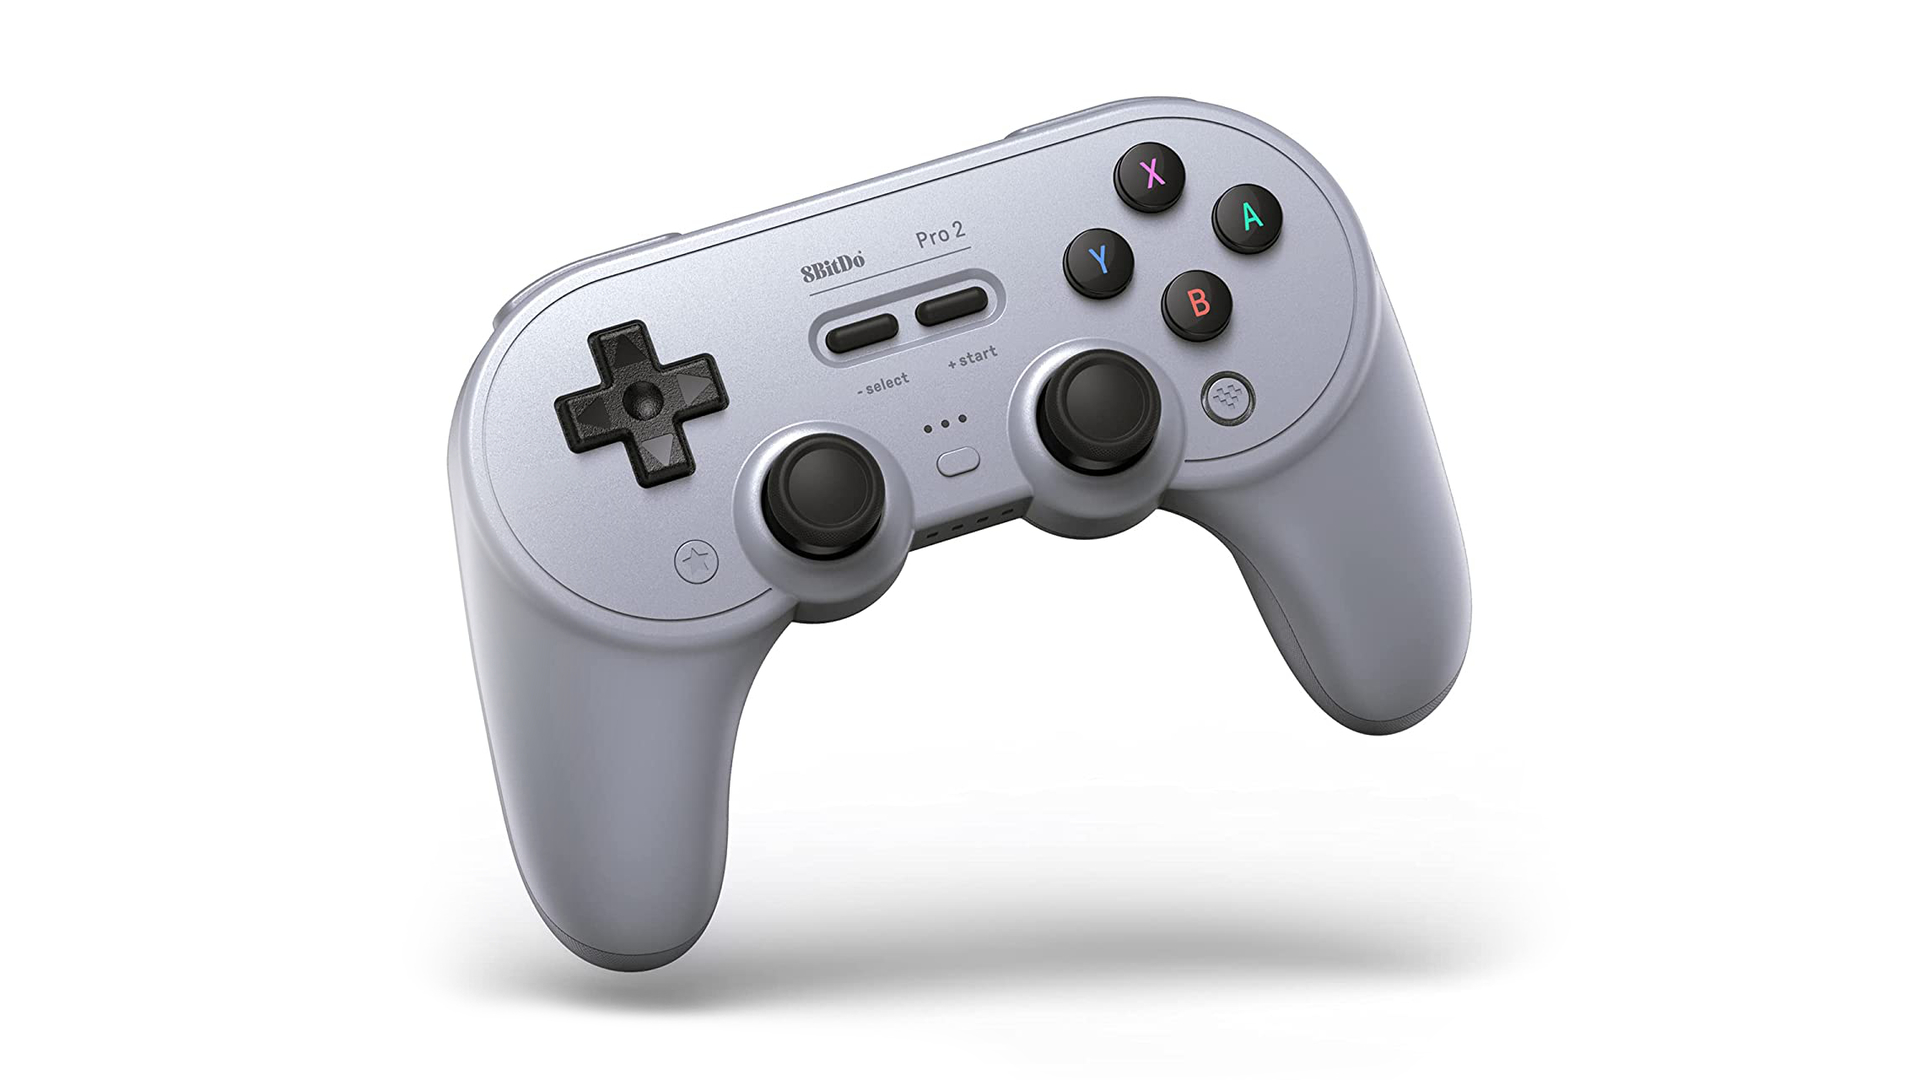controller: (446, 96, 1473, 977)
